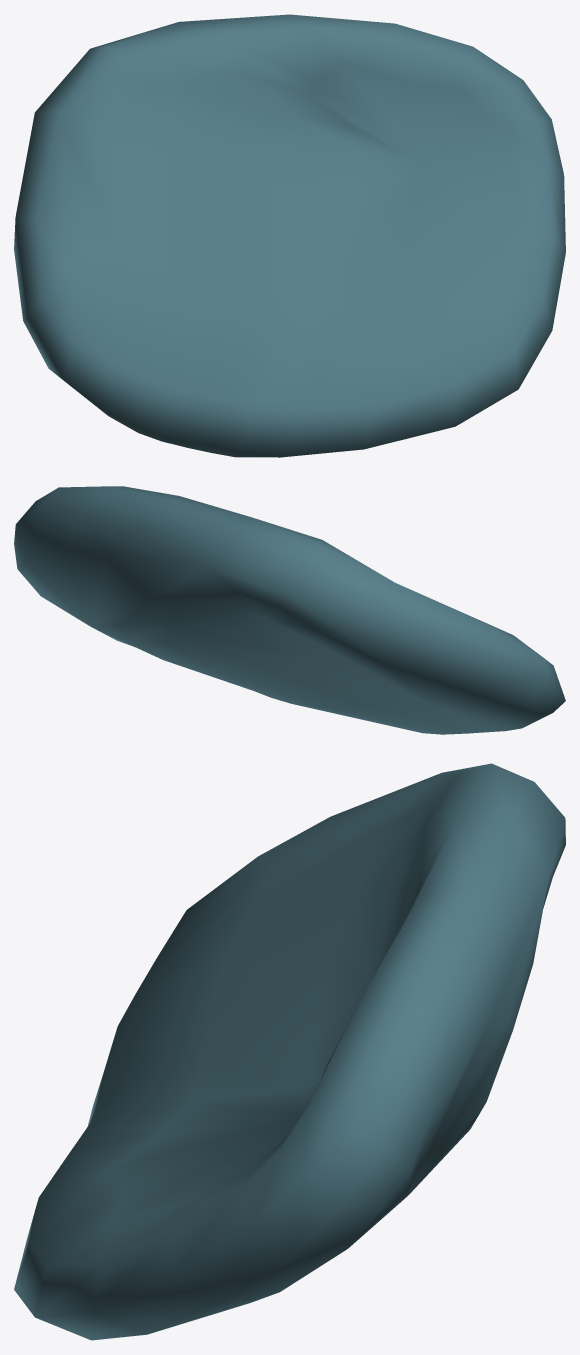
File: Flexor_digitorum_longus_3rd_distal_phalanx_right.glb
The picture shows the model from 3 angles, top to bottom: view 1: azimuth 30°, elevation 25°; view 2: azimuth 150°, elevation 25°; view 3: azimuth 270°, elevation 25°; orthographic projection. The views are drawn at different scales.
Parts seen in each view (by area): view 1: Flexor_digitorum_longus_on_3d_distal_phalanx.r_Generated_Mes; view 2: Flexor_digitorum_longus_on_3d_distal_phalanx.r_Generated_Mes; view 3: Flexor_digitorum_longus_on_3d_distal_phalanx.r_Generated_Mes.
Boxes of the visible parts, <box> form: Flexor_digitorum_longus_on_3d_distal_phalanx.r_Generated_Mes: <box>14,14,565,457</box>; Flexor_digitorum_longus_on_3d_distal_phalanx.r_Generated_Mes: <box>14,486,565,734</box>; Flexor_digitorum_longus_on_3d_distal_phalanx.r_Generated_Mes: <box>14,763,565,1340</box>.
Bounding box in the file's own units: 0.00323 × 0.00176 × 0.00205.
